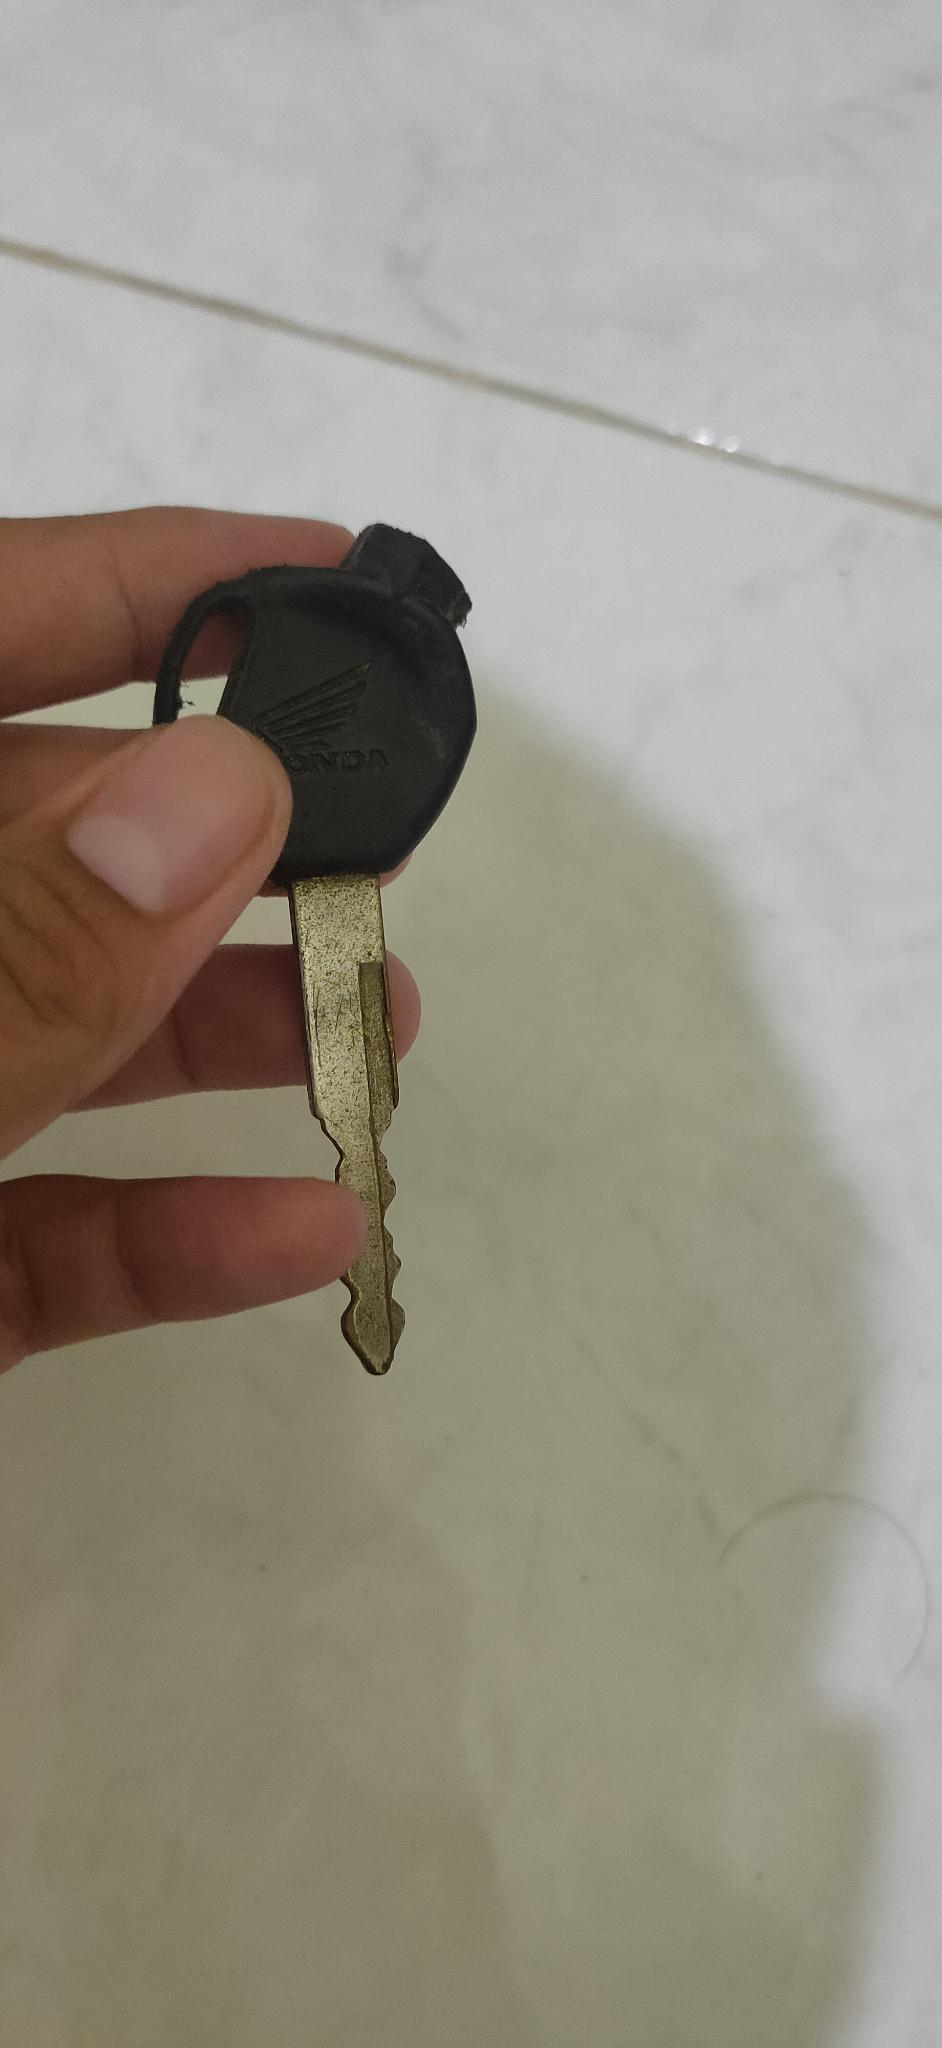keys: (120, 503, 533, 1408)
